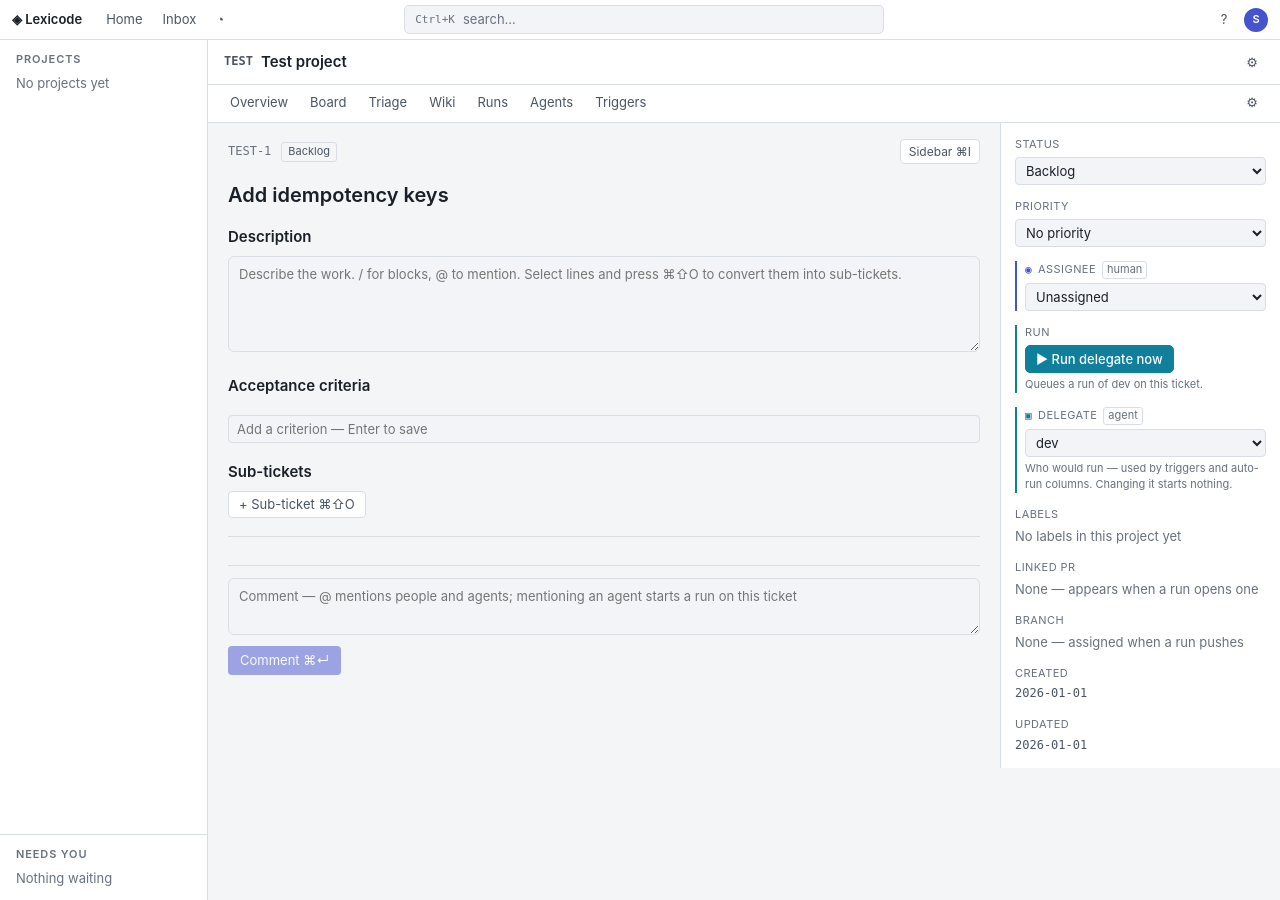
Test case: the ticket's Run button (UI spec §5.3, §5.4 sidebar) › posts to the delegate endpoint and reports the run it queued
This screenshot has width=1280, height=900.
Step 1. Click the button "▶ Run delegate now" → (1099, 359), box [1025,345,1174,373]
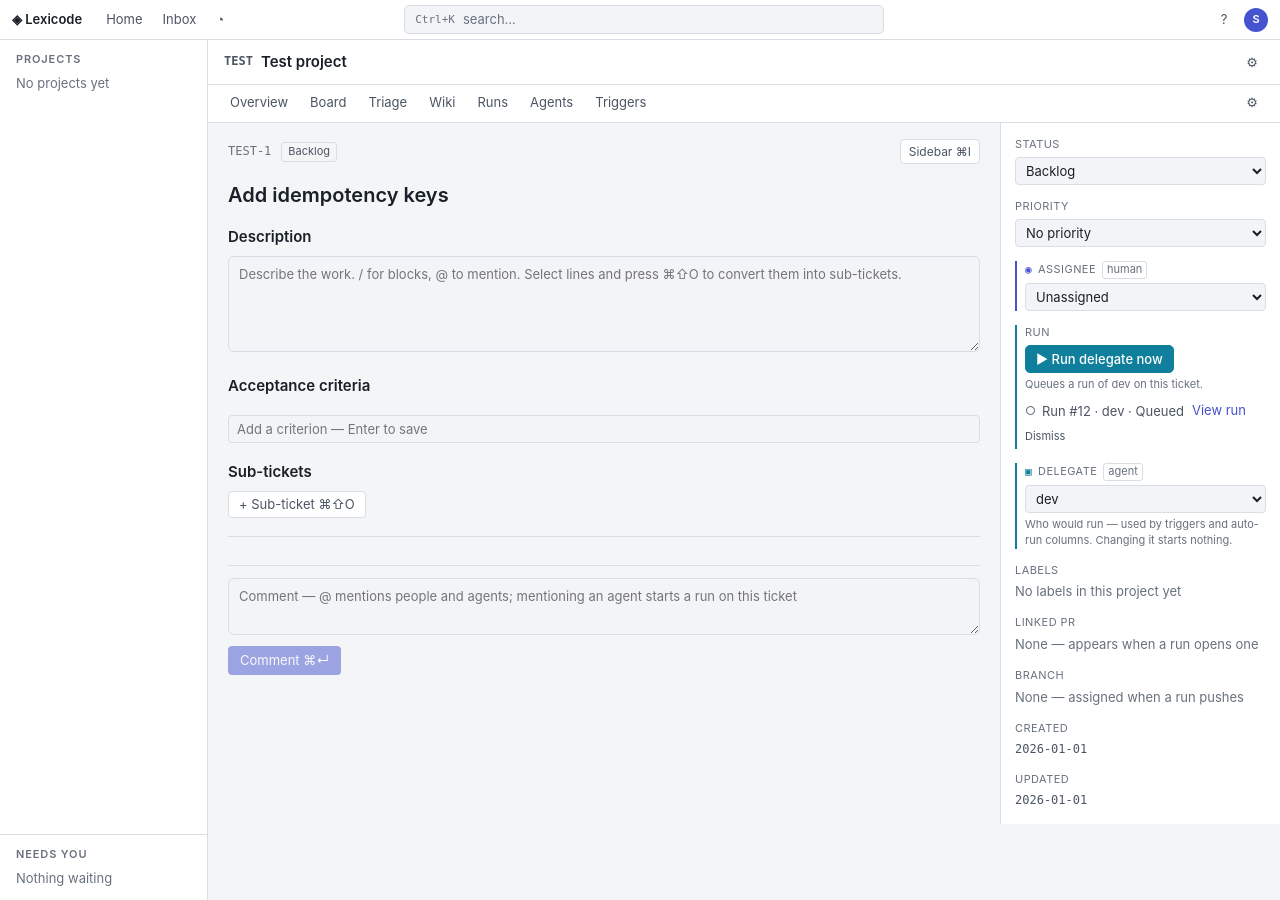
Now the message "○ Run #12 · dev · Queued View run Dismiss" is shown, box [1025,397,1266,449]
